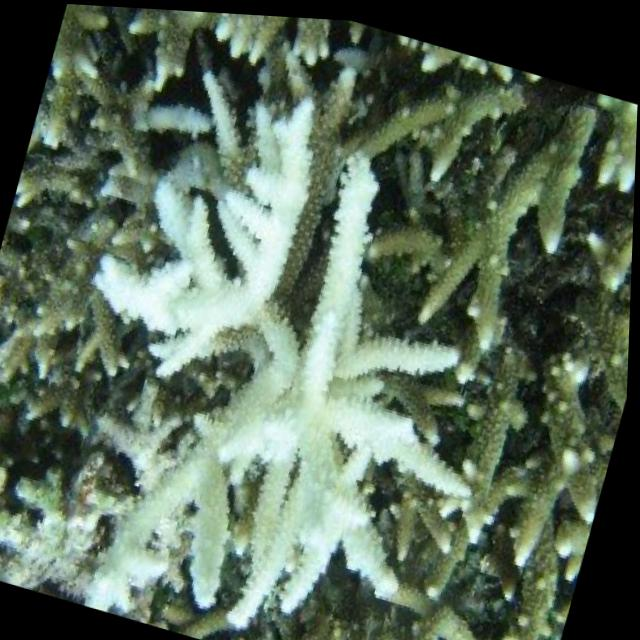Bleached Coral: (16, 42, 566, 640)
